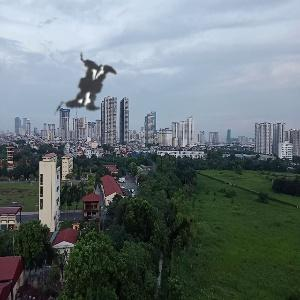drone: (15, 14, 158, 157)
